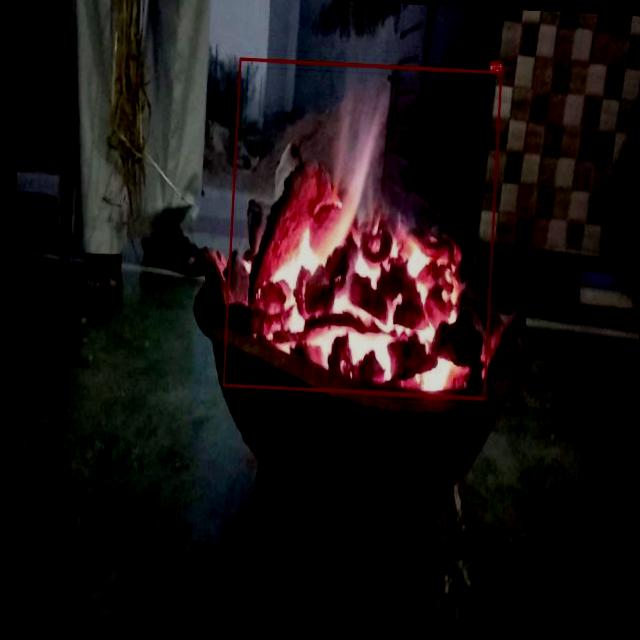fire: (223, 58, 503, 400)
